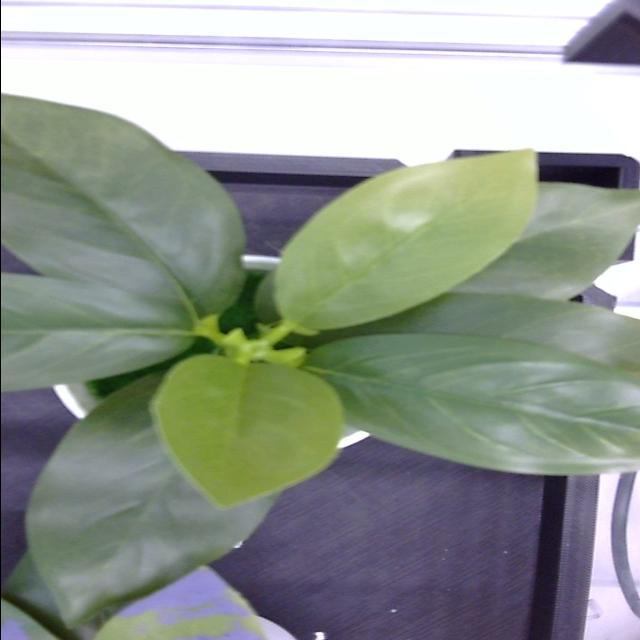Green: (1, 96, 244, 390), (26, 377, 279, 628), (304, 294, 640, 474), (274, 150, 536, 330), (150, 355, 341, 508), (450, 183, 640, 300)
Purple: (76, 566, 295, 640)
